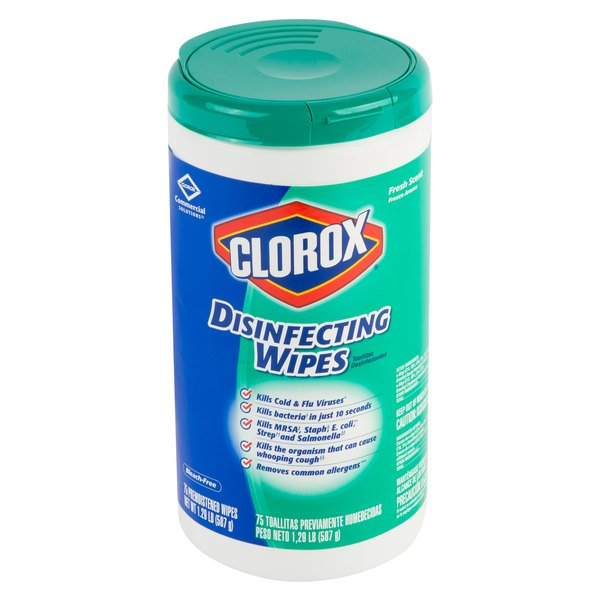Wipes: (163, 15, 443, 583)
